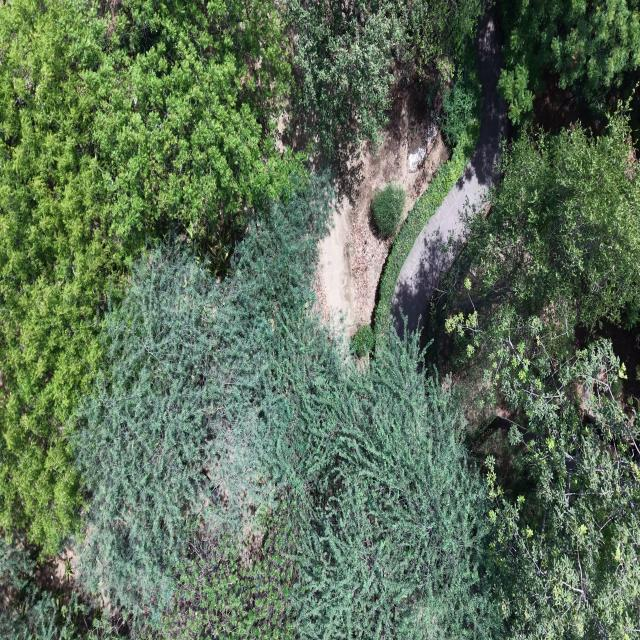DRY_AREA: (317, 93, 448, 337)
PATHWAYS: (391, 15, 507, 337)
VEGETATION_TREE: (0, 0, 639, 639), (78, 179, 497, 638), (0, 0, 314, 551), (0, 0, 294, 551), (225, 198, 492, 637), (75, 180, 331, 623), (445, 112, 639, 638), (0, 2, 139, 551), (295, 337, 500, 638), (72, 249, 221, 615), (487, 341, 639, 639), (451, 113, 639, 353), (471, 116, 639, 327), (374, 42, 481, 340), (288, 0, 487, 155), (139, 516, 297, 639), (374, 145, 469, 341), (289, 0, 402, 155), (499, 0, 639, 123), (0, 539, 95, 639), (400, 0, 490, 74), (440, 38, 481, 155), (441, 70, 480, 148), (372, 184, 405, 238), (352, 325, 375, 357)
